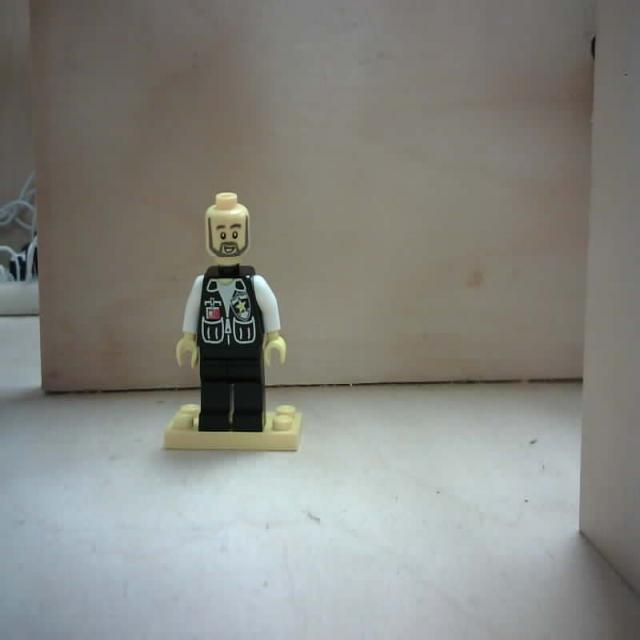Lego-People: (162, 184, 307, 460)
